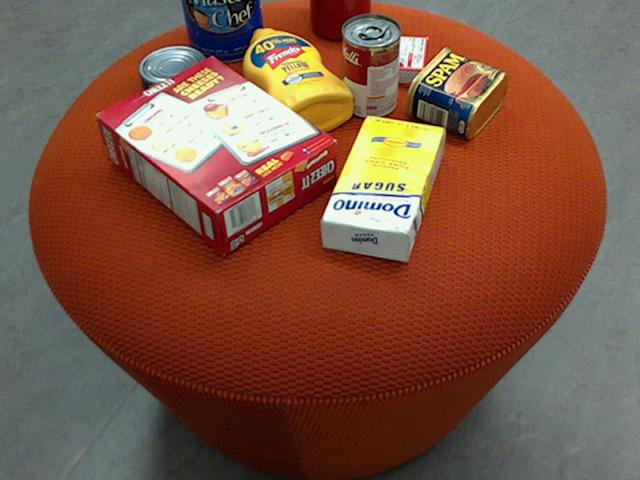cracker_box: (93, 54, 336, 252)
gelatin_box: (353, 34, 428, 86)
large_marker: (332, 0, 348, 33)
master_chef_can: (180, 0, 264, 60)
mug: (308, 0, 369, 39)
mustard_bottle: (241, 28, 351, 136)
potted_meat_can: (404, 47, 505, 139)
sugar_box: (321, 114, 443, 262)
tomato_soup_can: (341, 13, 400, 117)
tuna_fish_can: (136, 45, 209, 105)
